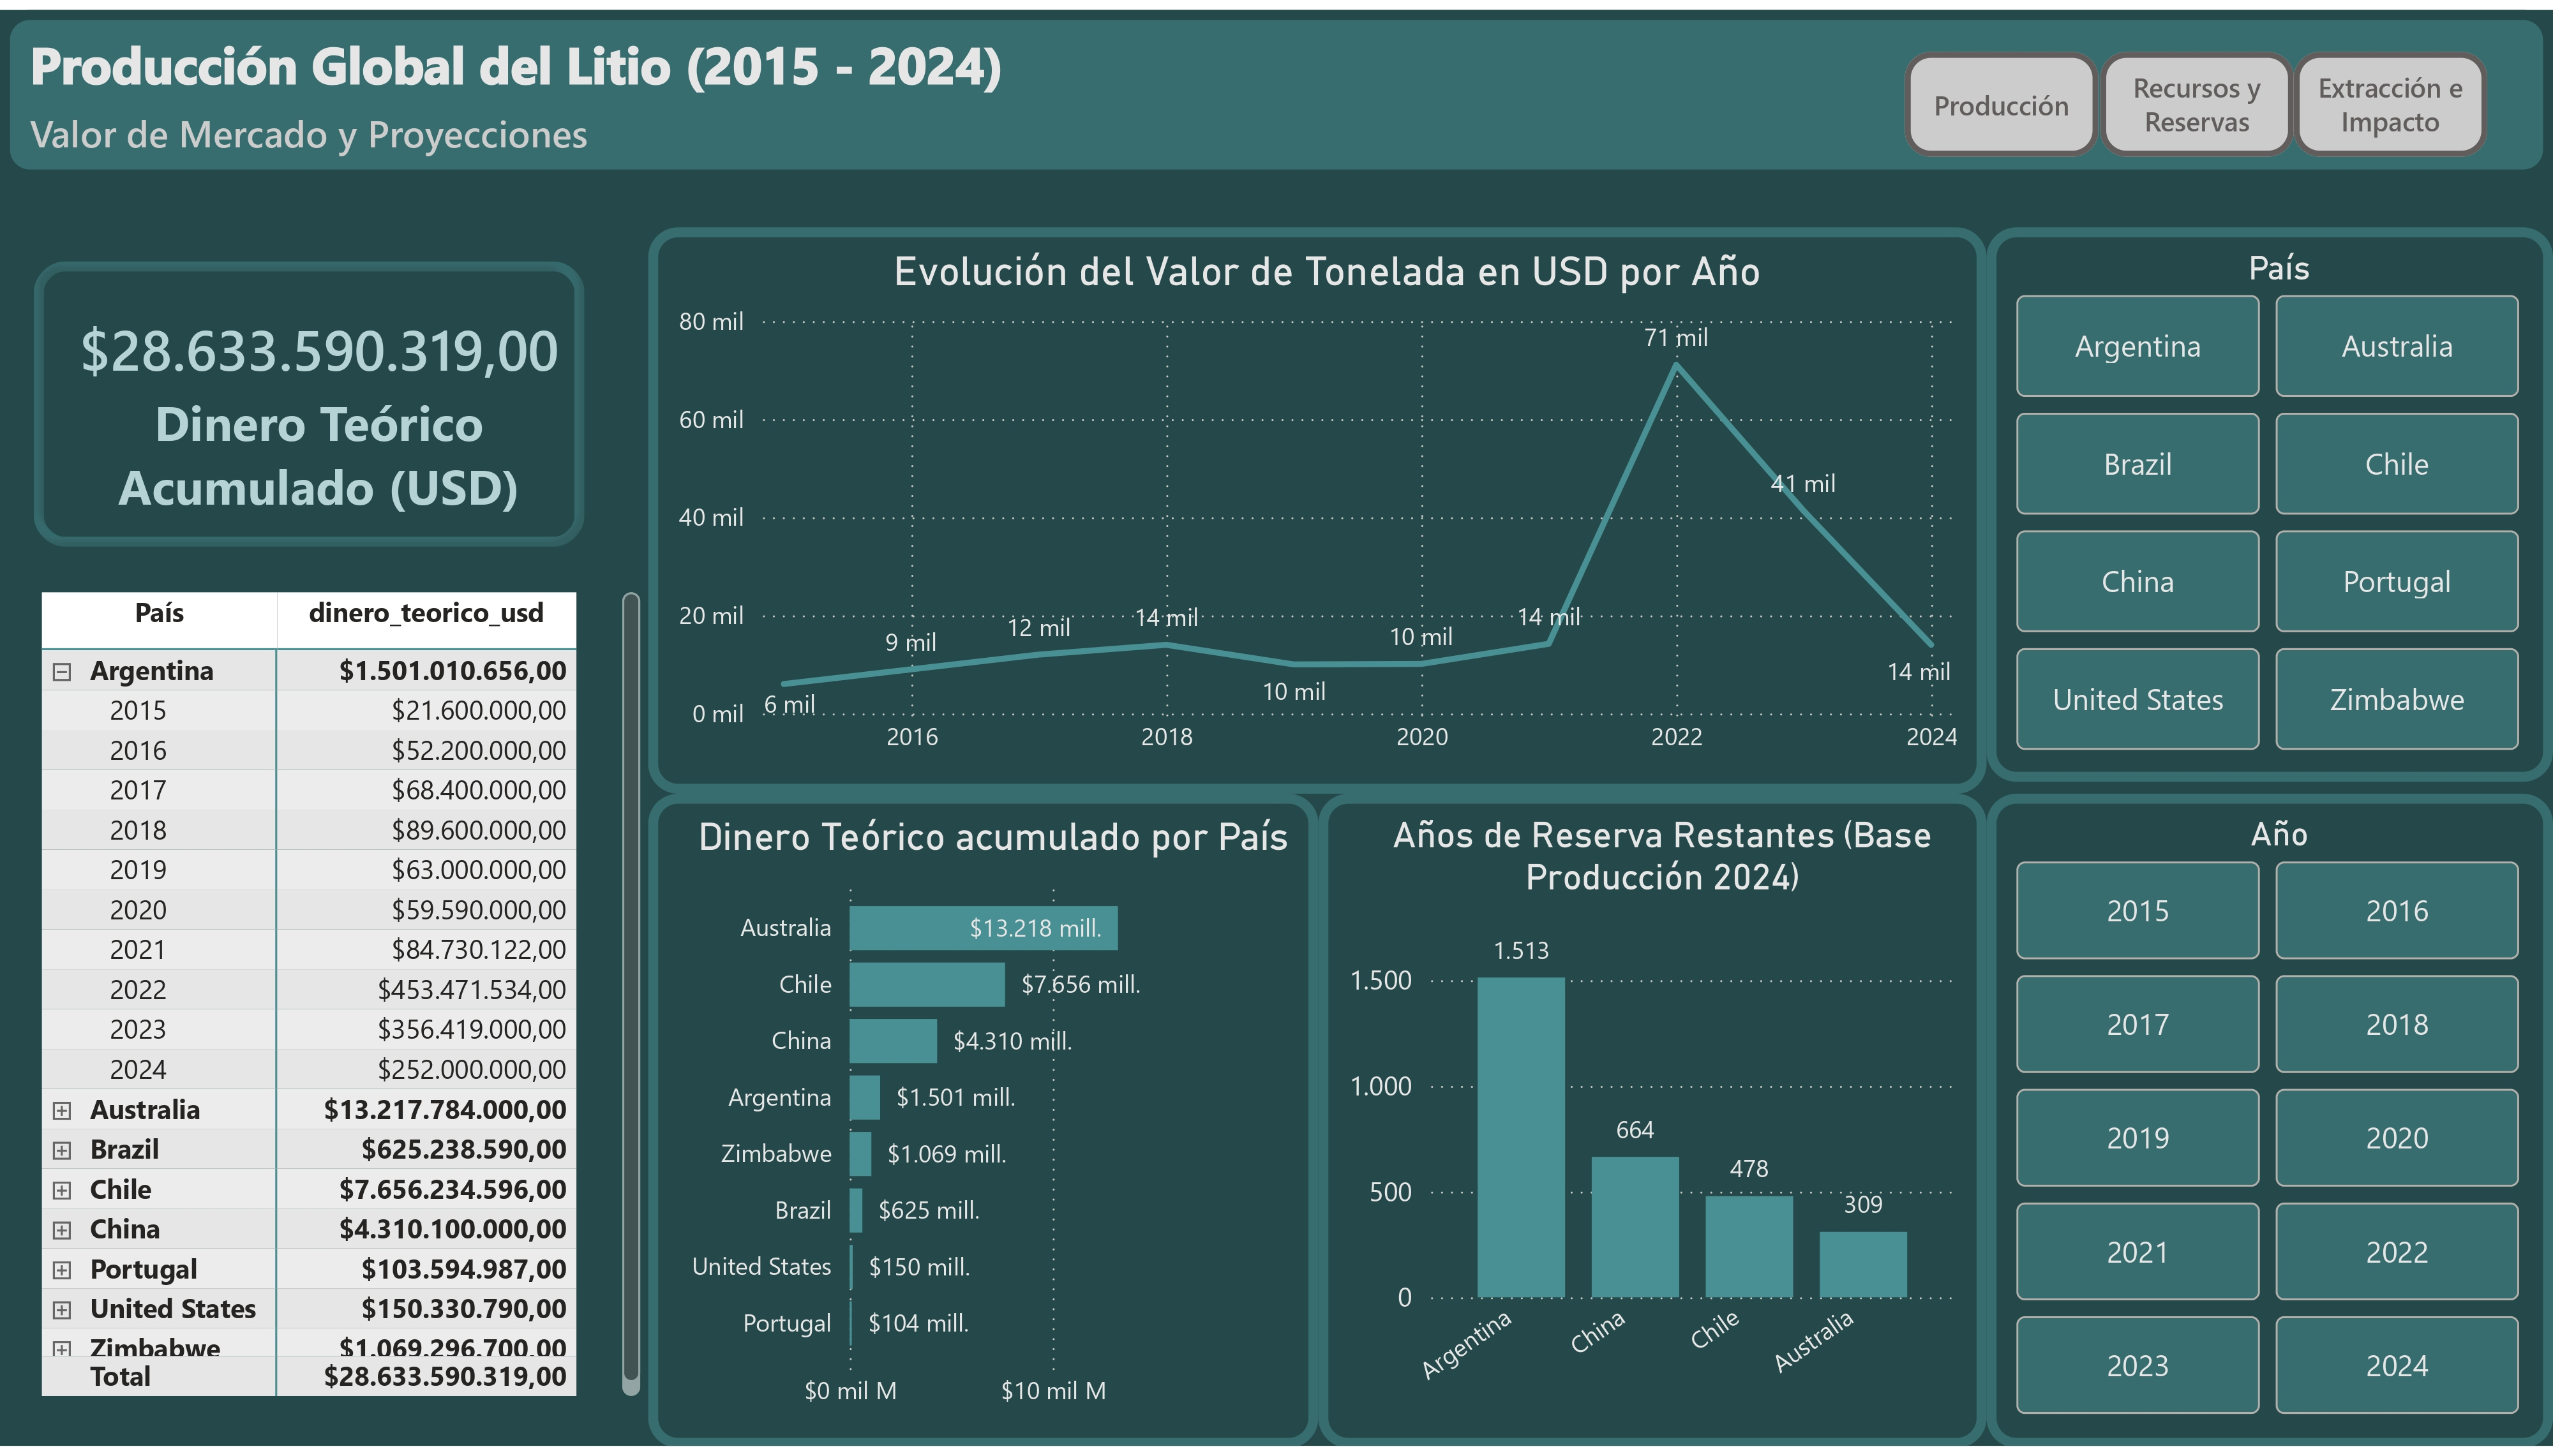

Layout of this report page (visuals, bound fields, positions):
{"tool":"powerbi","page":{"name":"Valor de Mercado y Proyecciones","canvas":[1280,720],"ordinal":3},"visuals":[{"type":"pivotTable","fields":{"Rows":["fact_produccion.nombre_pais","fact_produccion.anio"],"Values":["fact_produccion.dinero_teorico_usd"]},"box":[15.6,286.7,310,413.3],"z":0},{"type":"textbox","title":"Producción Global del Litio (2015 - 2024)","box":[0,0,1280,84.6],"z":1000},{"type":"advancedSlicerVisual","fields":{"Values":["dim_pais_detalles.nombre_pais"]},"box":[996.2,108.8,283.8,277.5],"z":2000},{"type":"cardVisual","fields":{"Data":["fact_produccion.dinero_teorico_usd"]},"box":[0,108.8,310,177.5],"z":3000},{"type":"clusteredColumnChart","title":"Años de Reserva Restantes (Base Producción 2024)","fields":{"Category":["fact_produccion.nombre_pais"],"Y":["fact_produccion.anios_reservas_restantes"]},"box":[661.2,392.5,335,327.5],"z":5000},{"type":"advancedSlicerVisual","title":"Año","fields":{"Values":["fact_produccion.anio"]},"box":[996.2,392.5,283.8,327.5],"z":6000},{"type":"lineChart","title":"Evolución del Valor de Tonelada en USD por Año","fields":{"Y":["Sum(dim_precios.precio_usd_ton)"],"Category":["dim_precios.anio"]},"box":[325,108.8,671.2,283.8],"z":7000},{"type":"clusteredBarChart","title":"Dinero Teórico acumulado por País","fields":{"Category":["fact_produccion.nombre_pais"],"Y":["fact_produccion.dinero_teorico_usd"]},"box":[325,392.5,336.2,327.5],"z":8000},{"type":"actionButton","title":"Recursos y Reservas","box":[1052.6,20.6,97.1,52.6],"z":8001},{"type":"actionButton","title":"Recursos y Reservas","box":[955.4,20.6,97.1,52.6],"z":8004},{"type":"actionButton","title":"Recursos y Reservas","box":[1149.7,20.6,97.1,52.6],"z":8005}]}

Visuals, with their boxes in screenshot pixels (x1, y1, x2, y2), scaled from the page's 1280x720 canvas onto the 2553x1456 screenshot:
pivotTable - fact_produccion.nombre_pais x fact_produccion.anio: (left=31, top=580, right=650, bottom=1416)
"Producción Global del Litio (2015 - 2024)" textbox: (left=0, top=0, right=2552, bottom=171)
advancedSlicerVisual - dim_pais_detalles.nombre_pais: (left=1987, top=220, right=2552, bottom=781)
cardVisual - fact_produccion.dinero_teorico_usd: (left=0, top=220, right=618, bottom=579)
"Años de Reserva Restantes (Base Producción 2024)" clusteredColumnChart: (left=1319, top=794, right=1987, bottom=1455)
"Año" advancedSlicerVisual: (left=1987, top=794, right=2552, bottom=1455)
"Evolución del Valor de Tonelada en USD por Año" lineChart: (left=648, top=220, right=1987, bottom=794)
"Dinero Teórico acumulado por País" clusteredBarChart: (left=648, top=794, right=1319, bottom=1455)
"Recursos y Reservas" actionButton: (left=2099, top=41, right=2293, bottom=148)
"Recursos y Reservas" actionButton: (left=1906, top=41, right=2099, bottom=148)
"Recursos y Reservas" actionButton: (left=2293, top=41, right=2487, bottom=148)
